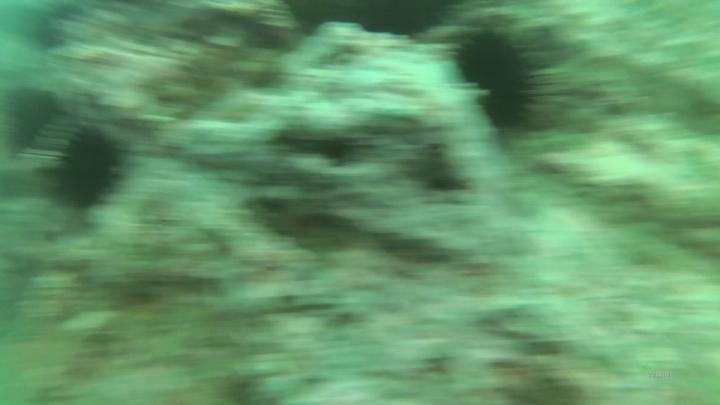echinus: (451, 19, 540, 136), (47, 115, 126, 215)
